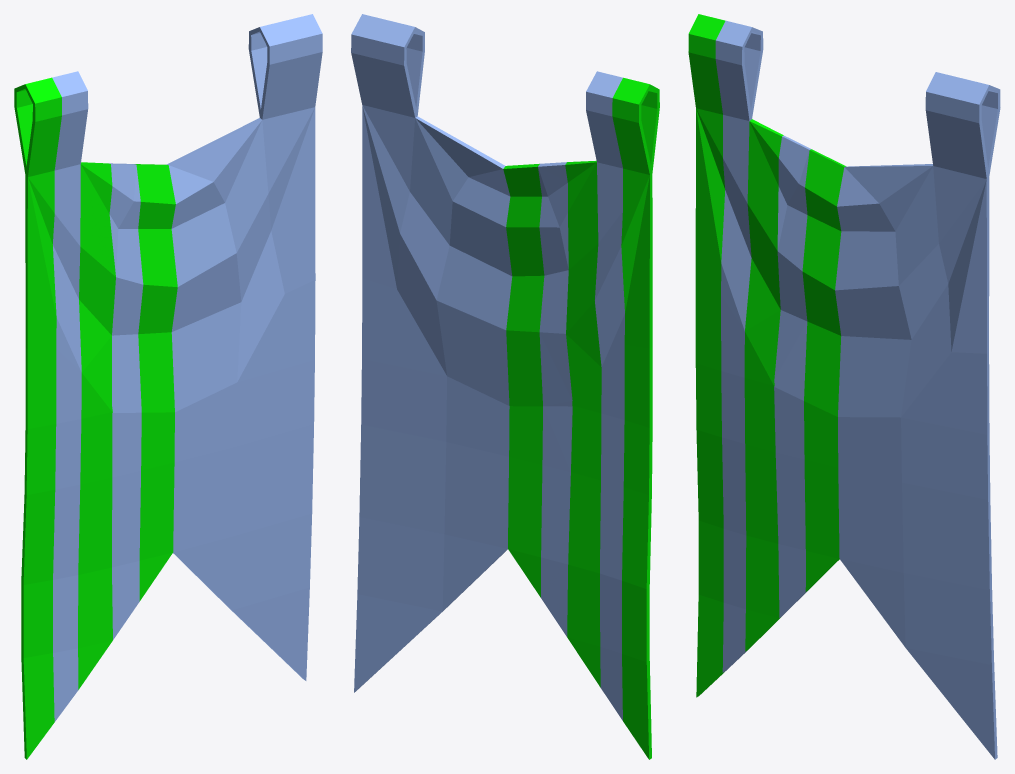
File: SM_Flag_Banner_Small_C_Fantasy.fbx
3 views of the same model, side by side, from view 1: azimuth 30°, elevation 25°; view 2: azimuth 150°, elevation 25°; view 3: azimuth 330°, elevation 25° (orthographic).
Visible parts, largest first — view 1: flag-banner-small-c-fantasy; view 2: flag-banner-small-c-fantasy; view 3: flag-banner-small-c-fantasy.
Part boxes in pixels (x1,y1,x2,y2): flag-banner-small-c-fantasy: (14,14,322,759); flag-banner-small-c-fantasy: (351,14,659,759); flag-banner-small-c-fantasy: (688,14,1000,759).
Size of the model in its own units: 0.66 by 1.47 by 0.0831.
